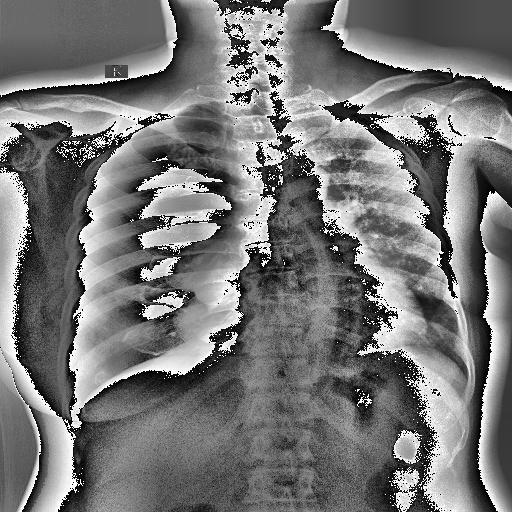12- Pneumothorax: (63, 100, 233, 422), (68, 106, 241, 419), (66, 101, 238, 407)
4- Consolidation: (289, 98, 455, 298)
7- Lung Opacity: (300, 98, 470, 312), (289, 98, 455, 298)
